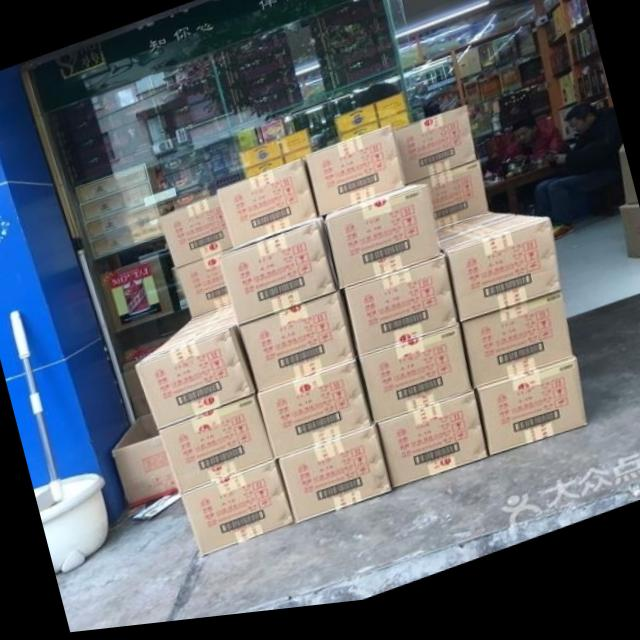box: (133, 309, 257, 434), (218, 222, 339, 331), (440, 226, 563, 332), (238, 296, 360, 399), (324, 191, 442, 296), (344, 263, 462, 365), (257, 365, 376, 465), (159, 399, 275, 498), (275, 433, 393, 530), (475, 367, 588, 468), (360, 332, 473, 433), (374, 400, 487, 499), (461, 302, 574, 400), (183, 465, 291, 561), (305, 133, 406, 224), (217, 164, 318, 253), (394, 116, 477, 193), (113, 416, 180, 511), (99, 256, 174, 335), (158, 198, 235, 271), (412, 170, 488, 237), (176, 253, 233, 322), (80, 184, 155, 228), (75, 166, 149, 207), (90, 220, 163, 261), (84, 205, 159, 243), (437, 222, 515, 250), (334, 112, 380, 149), (164, 165, 213, 195), (238, 144, 283, 176), (372, 102, 410, 138), (160, 150, 208, 178), (618, 158, 638, 218), (620, 219, 640, 272), (276, 135, 310, 163), (243, 163, 285, 183), (518, 68, 545, 99), (496, 76, 523, 106), (258, 123, 286, 150), (455, 59, 481, 88), (237, 131, 261, 158), (479, 84, 502, 112), (463, 90, 483, 118), (476, 54, 497, 80), (283, 154, 311, 169)
